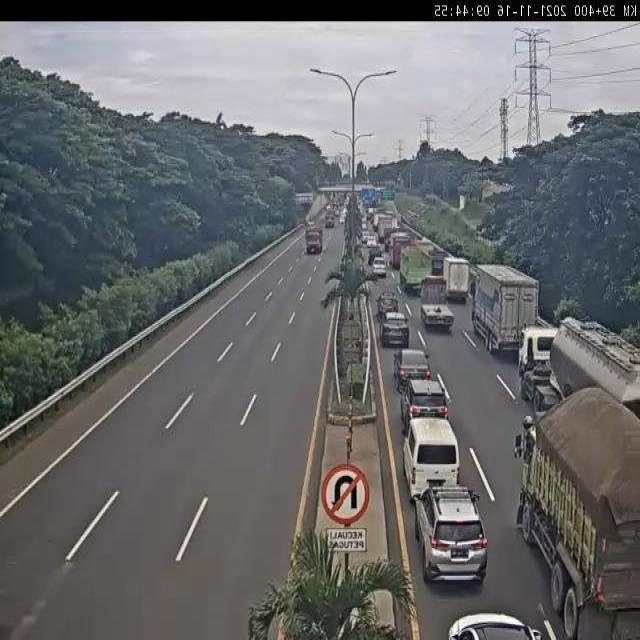Car: (413, 484, 490, 592), (446, 612, 548, 640), (400, 376, 448, 431), (393, 348, 431, 385), (380, 313, 410, 347), (371, 256, 387, 276)
Truck: (517, 386, 640, 640), (518, 317, 640, 412), (471, 264, 542, 354), (419, 276, 455, 333), (399, 248, 433, 292), (442, 257, 470, 298), (304, 226, 324, 256)
Van: (402, 416, 460, 499)
